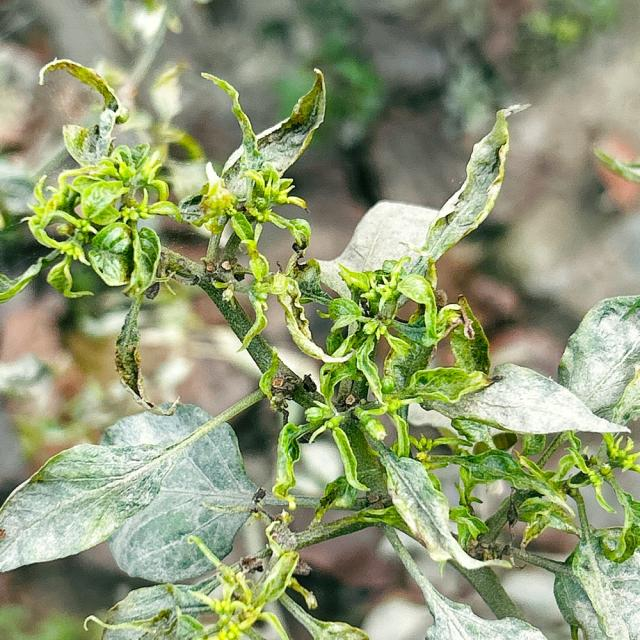Chilli_Leaf_Curl: (1, 57, 638, 638), (0, 400, 264, 585), (404, 100, 531, 267), (415, 361, 632, 436), (554, 293, 639, 427)
